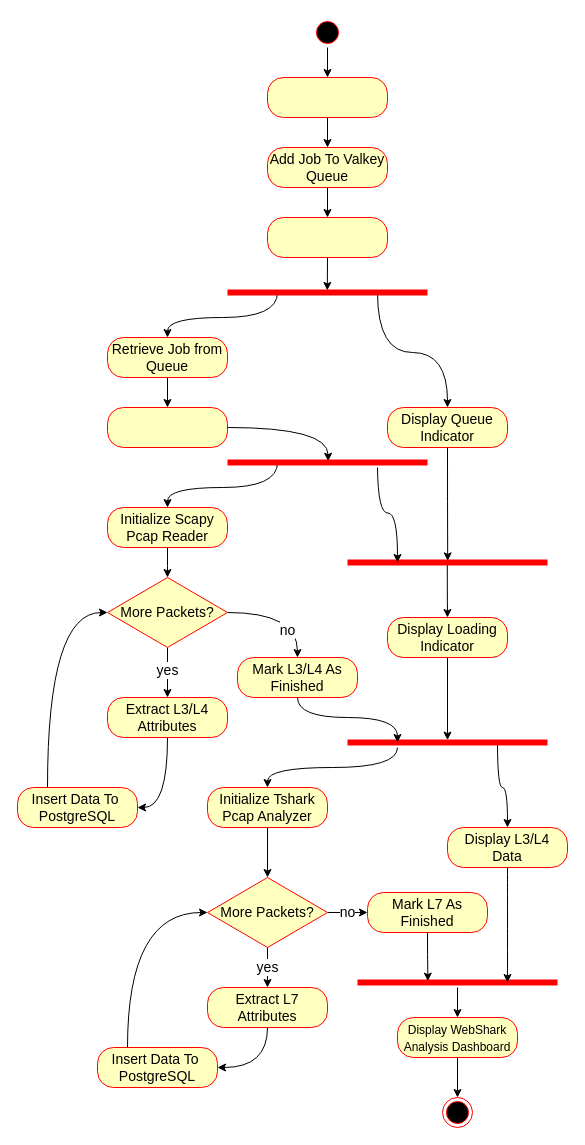
This 585x1145 diagram has some shape labels left out. The shapes that lost their labels are listed below. From the top down, each one's box as (x1, y1, x2, y2) in pixels, then its label:
(266, 76, 388, 118): Upload PCAP File
(266, 216, 388, 258): Mark Job As Dispatching
(106, 406, 228, 448): Mark Job As Analyzing
